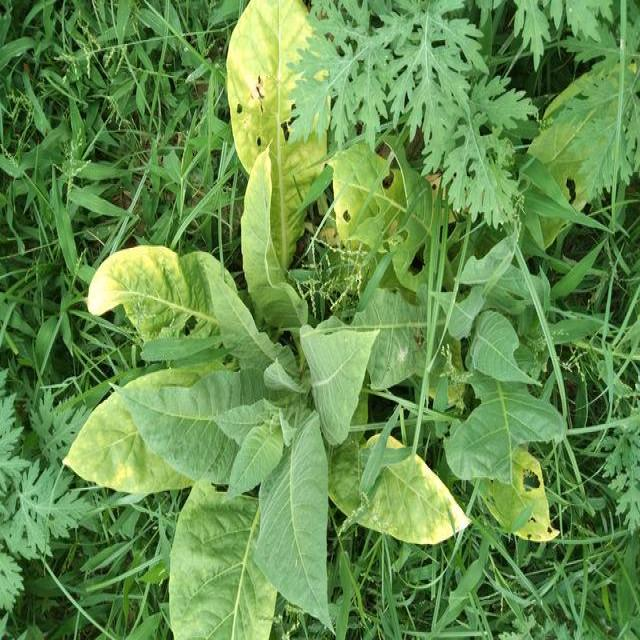crop: (65, 137, 470, 638)
